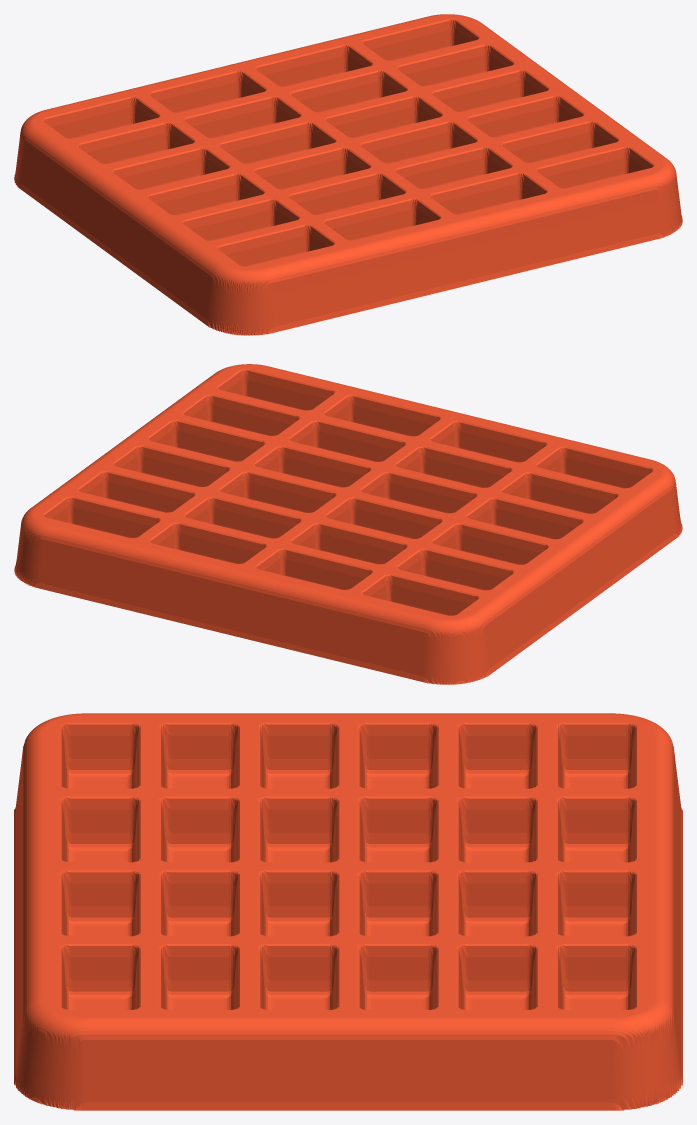
The model's file is mold.glb.
3 renders of one model, top to bottom at view 1: azimuth 30°, elevation 25°; view 2: azimuth 150°, elevation 25°; view 3: azimuth 270°, elevation 25°, orthographic. The views are drawn at different scales.
Parts seen in each view (by area): view 1: geometry_0; view 2: geometry_0; view 3: geometry_0.
Part boxes in pixels (x1=…): geometry_0: x1=14, y1=14, x2=682, y2=335; geometry_0: x1=14, y1=364, x2=682, y2=684; geometry_0: x1=14, y1=713, x2=682, y2=1110.
Bounding box in the file's own units: 0.098 × 0.0114 × 0.0849.
